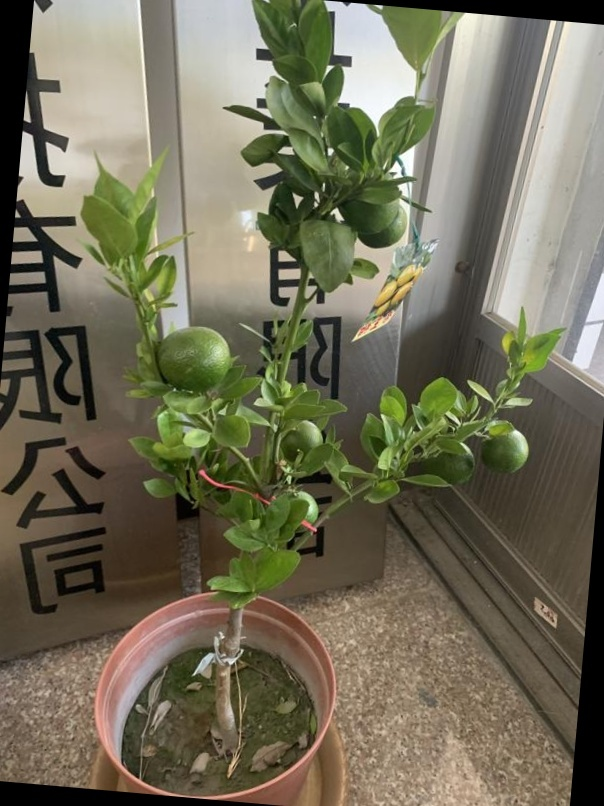Tangerine: (154, 321, 235, 395), (482, 426, 530, 474)
